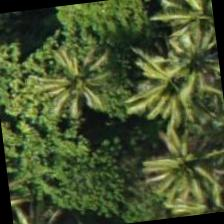Kelapa_Sawit: (116, 40, 216, 140), (20, 28, 120, 128), (138, 114, 223, 216), (152, 9, 222, 107), (156, 0, 217, 56)
